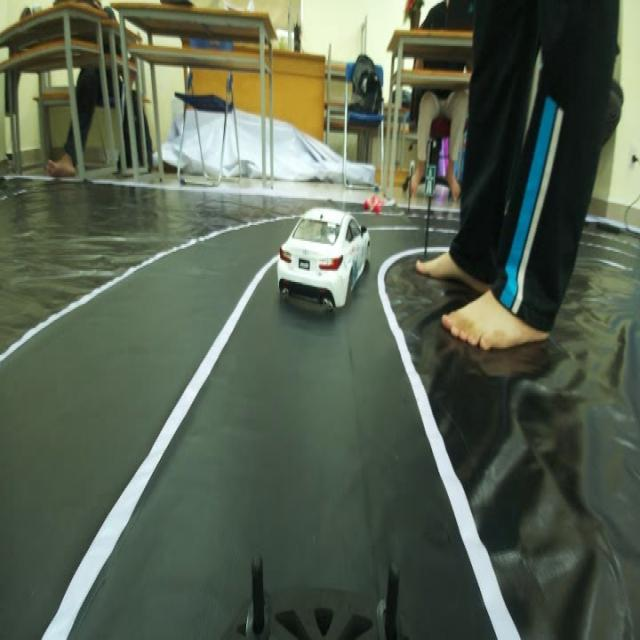car: (276, 191, 372, 327)
